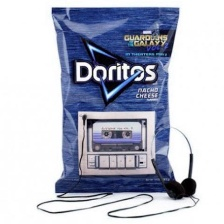snack: (43, 1, 186, 198)
